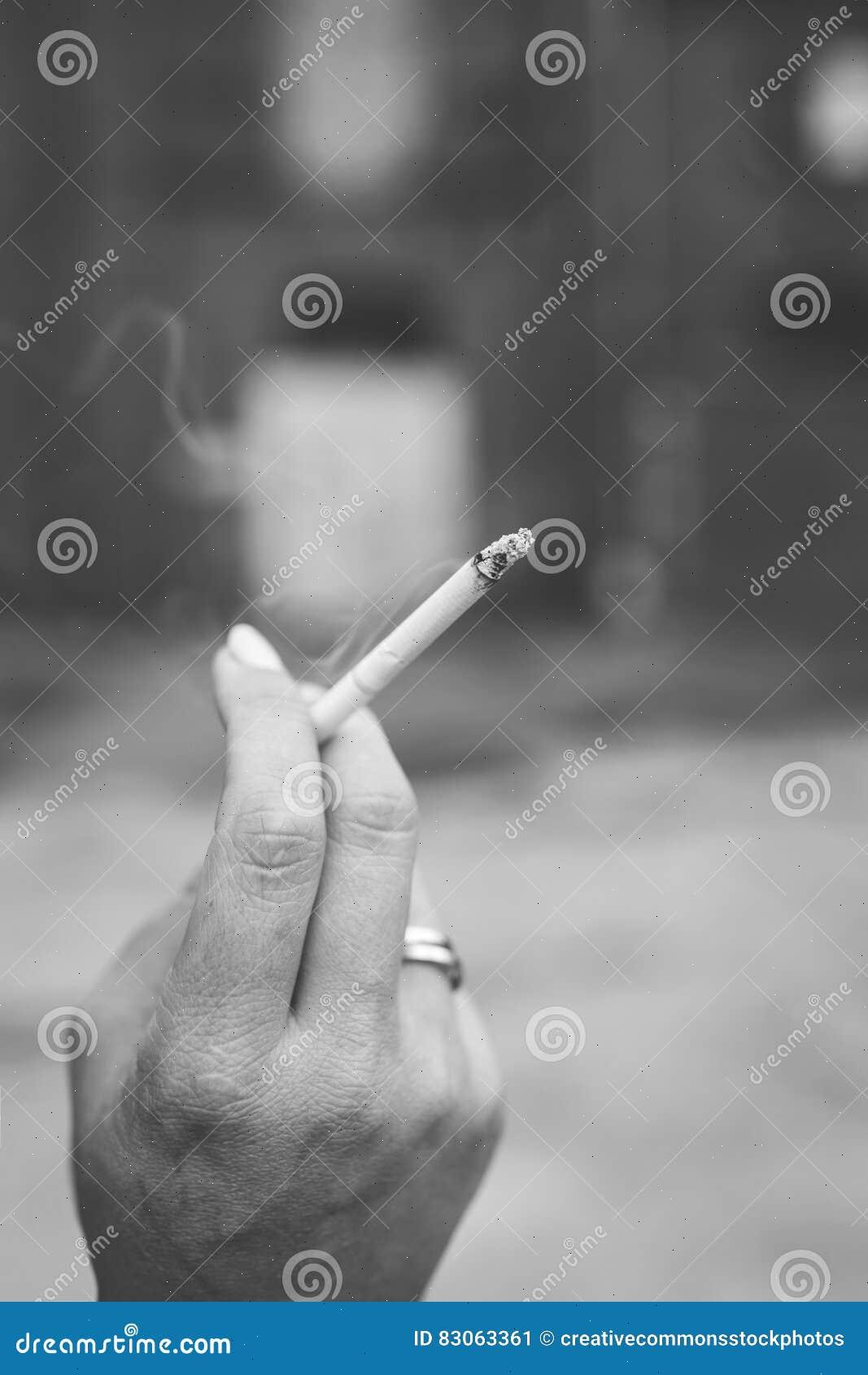cigarette: (310, 529, 533, 741)
